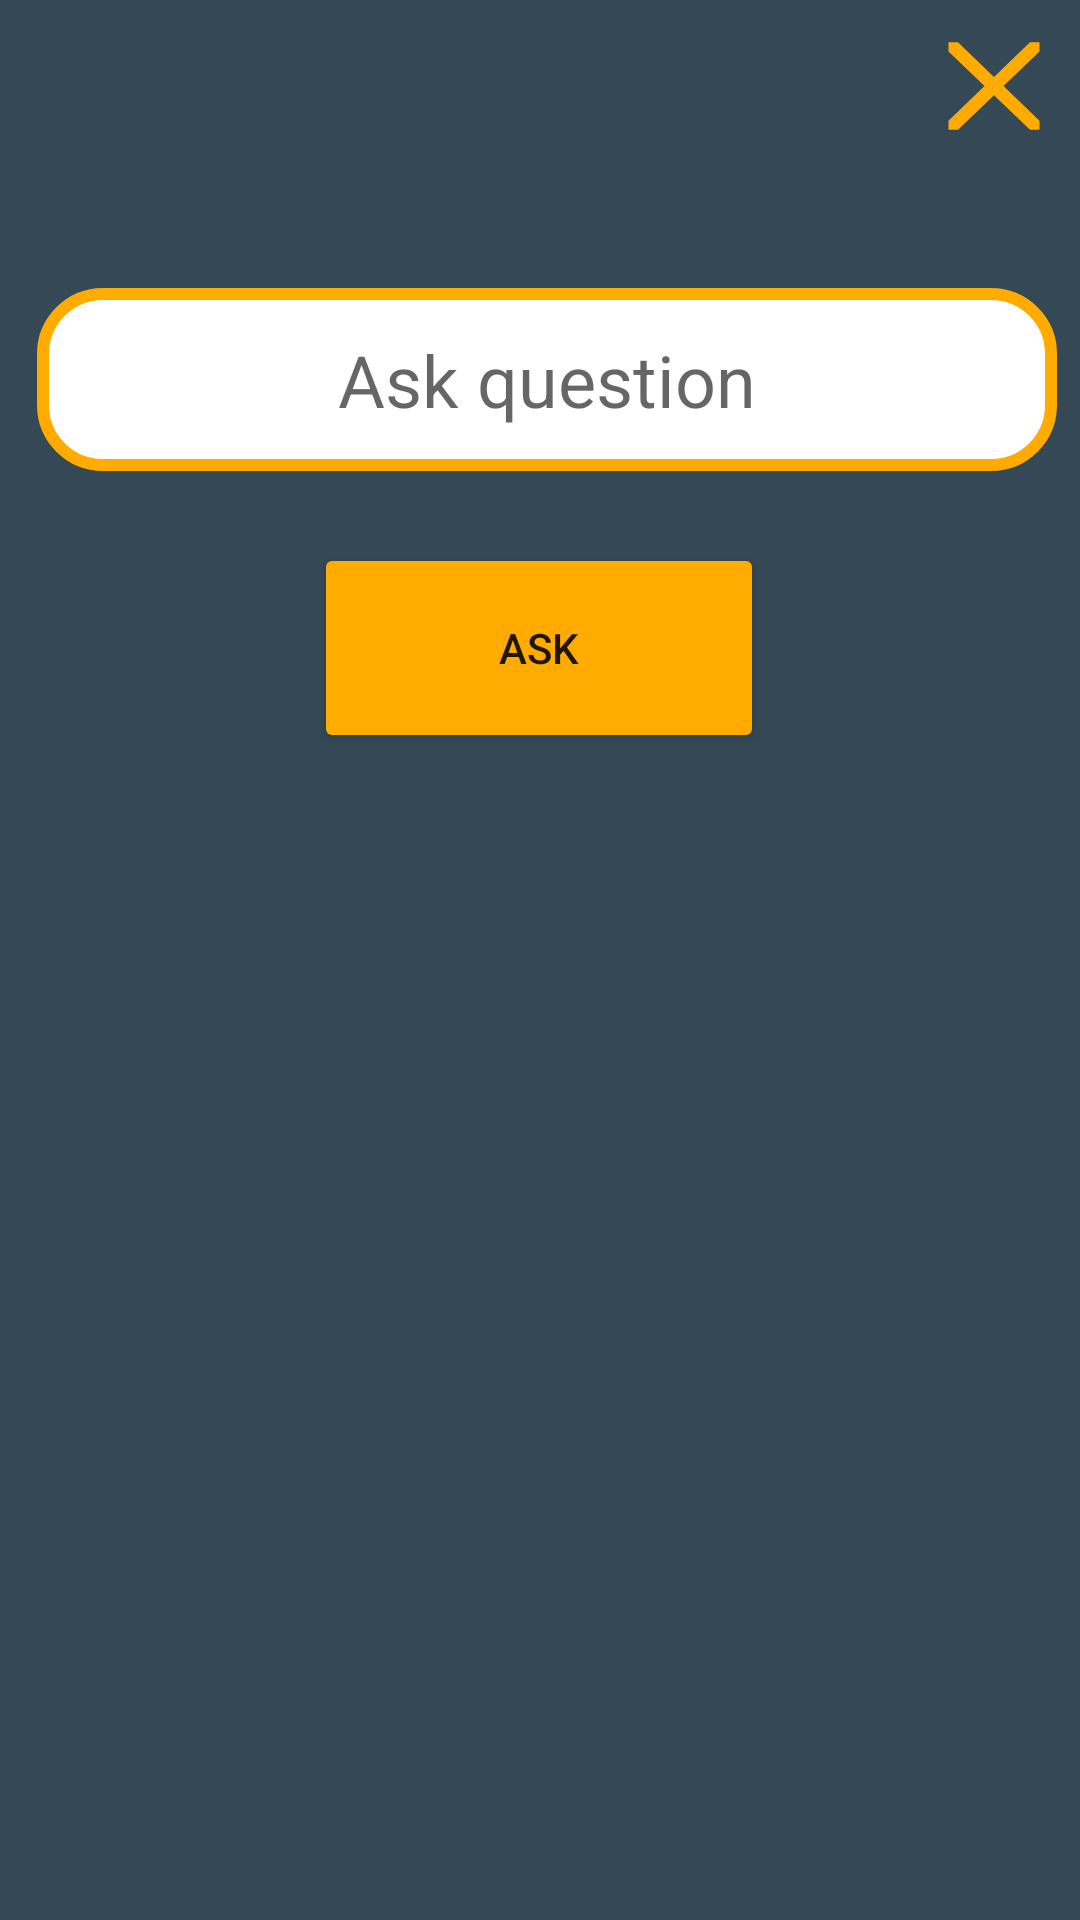

Point at icon controls on the screen. Image size 1080 x 1920, points as point (x, y).
window close: point (994, 86)
